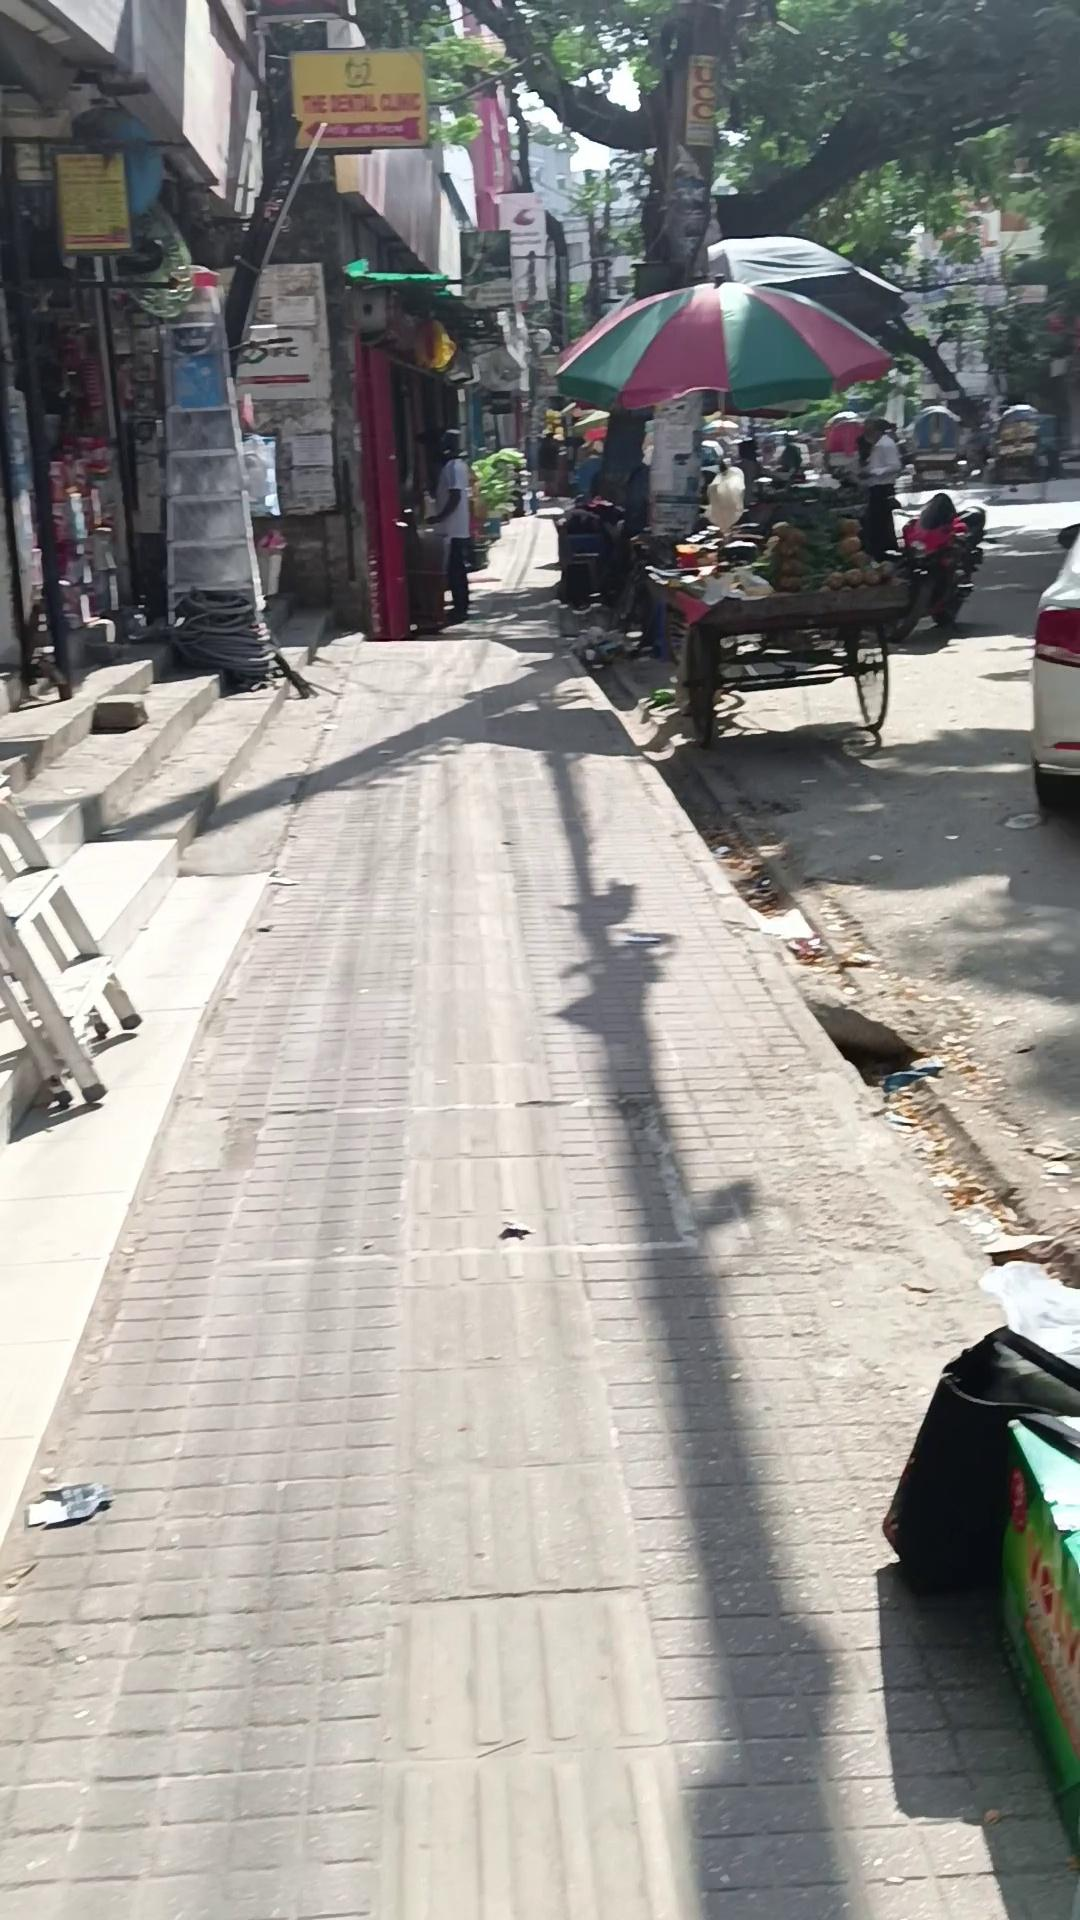Bollard: (1029, 521, 1079, 811)
Broken-road: (560, 636, 1073, 1913)
Construction-barrier: (880, 492, 986, 644)
Curb: (425, 429, 473, 618), (853, 417, 901, 560)
Fallen-tree: (468, 446, 526, 541)
Fence: (642, 556, 916, 749), (909, 404, 963, 487)
Garbage: (3, 517, 1075, 1916)
Motorcycle: (0, 589, 334, 1520)
